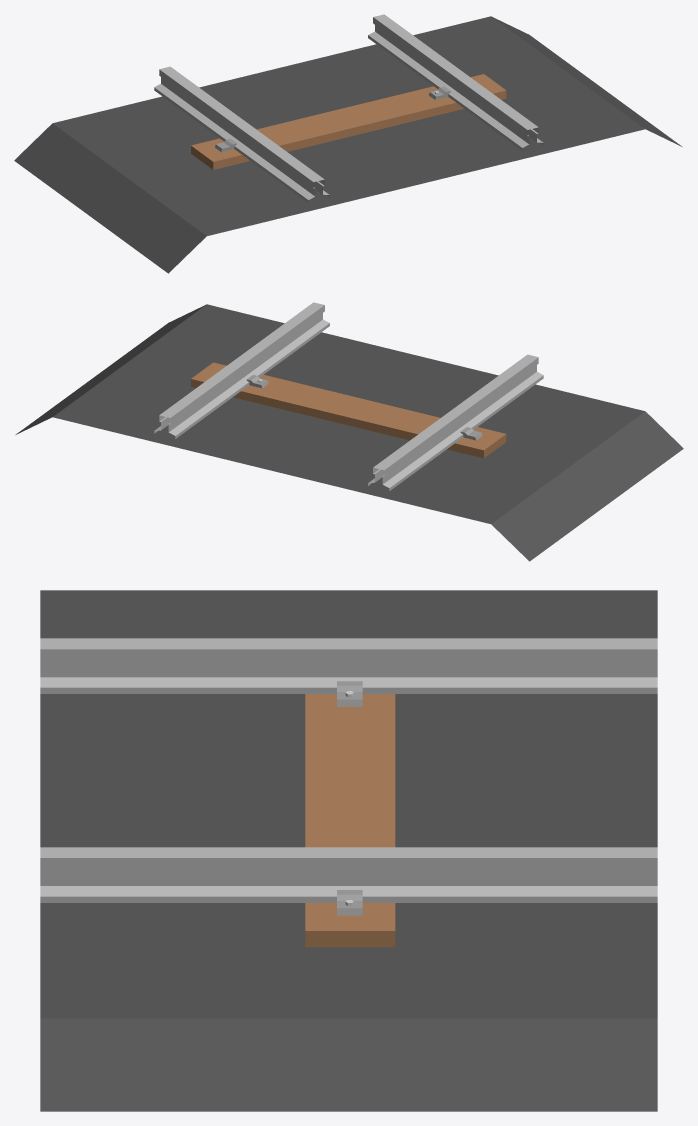
The model's file is track_straight.fbx.
3 views of the same model, one above another, from view 1: azimuth 30°, elevation 25°; view 2: azimuth 150°, elevation 25°; view 3: azimuth 270°, elevation 25° (orthographic). The views are drawn at different scales.
Visible parts, largest first — view 1: 1_straight.000; view 2: 1_straight.000; view 3: 1_straight.000.
Part boxes in pixels (left/top/right/bottom): 1_straight.000: left=14, top=14, right=682, bottom=273; 1_straight.000: left=15, top=302, right=683, bottom=561; 1_straight.000: left=40, top=590, right=657, bottom=1111.
Bounding box in the file's own units: 1.93 × 0.2 × 1.
